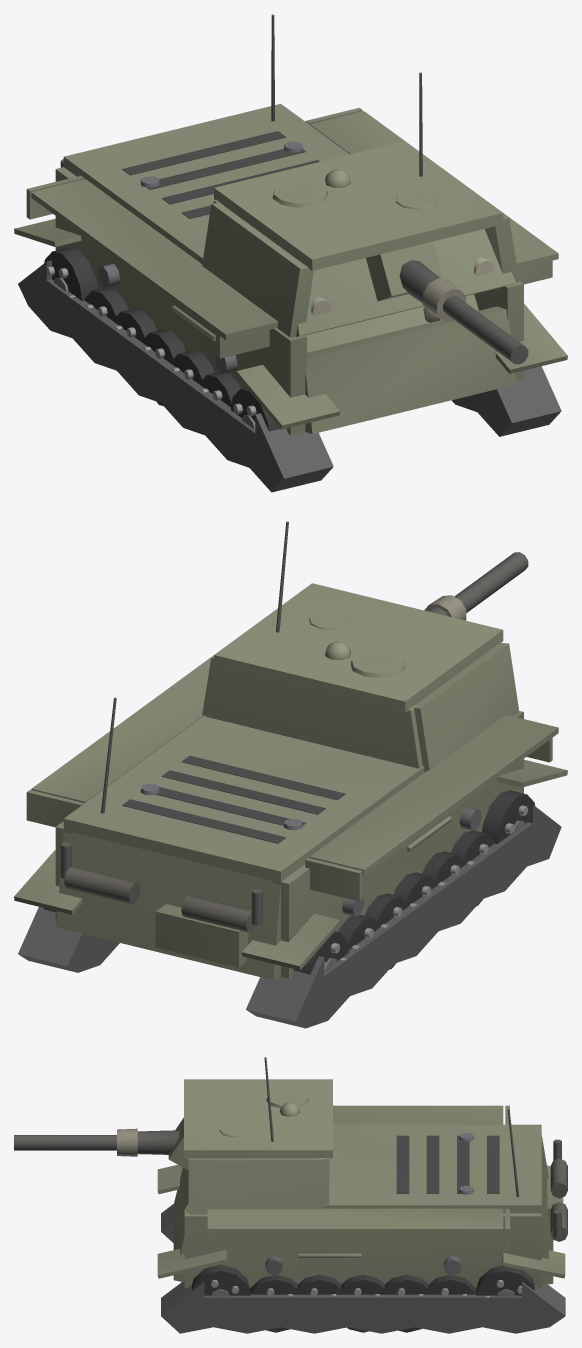
3 views of the same model, one above another, from view 1: azimuth 30°, elevation 25°; view 2: azimuth 150°, elevation 25°; view 3: azimuth 270°, elevation 25° (orthographic). The views are drawn at different scales.
Visible parts, largest first — view 1: hullSide, tracks, turretRoof, hullTop, lowerPlate, mantlet, turretSide, barrel, glacis, wheel6, wheel5, wheel2 (+4 smaller); view 2: hullTop, hullSide, tracks, turretRoof, hullRear, turretSide, barrel, wheel5, wheel6, wheel4, wheel2, wheel1 (+2 smaller); view 3: hullSide, tracks, hullTop, turretRoof, turretSide, barrel, hullRear, wheel12, wheel13, wheel11, wheel8, lowerPlate (+4 smaller).
Boxes of the visible parts, bbox=[...] form: hullSide: bbox=[26, 107, 558, 435]; tracks: bbox=[14, 218, 567, 492]; turretRoof: bbox=[214, 72, 503, 270]; hullTop: bbox=[63, 103, 349, 263]; lowerPlate: bbox=[305, 306, 516, 434]; mantlet: bbox=[296, 229, 515, 336]; turretSide: bbox=[202, 200, 519, 337]; barrel: bbox=[399, 260, 528, 364]; glacis: bbox=[305, 294, 478, 352]; wheel6: bbox=[44, 247, 97, 300]; wheel5: bbox=[230, 387, 280, 431]; wheel2: bbox=[142, 329, 185, 405]; hullTop: bbox=[63, 715, 424, 882]; hullSide: bbox=[26, 655, 558, 978]; tracks: bbox=[14, 759, 567, 1028]; turretRoof: bbox=[214, 521, 503, 712]; hullRear: bbox=[56, 697, 280, 980]; turretSide: bbox=[202, 643, 519, 772]; barrel: bbox=[424, 552, 528, 620]; wheel5: bbox=[482, 790, 534, 843]; wheel6: bbox=[293, 931, 348, 974]; wheel4: bbox=[451, 830, 494, 906]; wheel2: bbox=[393, 872, 437, 908]; wheel1: bbox=[365, 893, 407, 969]; hullSide: bbox=[184, 1105, 541, 1287]; tracks: bbox=[157, 1164, 565, 1333]; hullTop: bbox=[323, 1124, 541, 1213]; turretRoof: bbox=[184, 1057, 332, 1158]; turretSide: bbox=[188, 1158, 329, 1214]; barrel: bbox=[14, 1128, 179, 1156]; hullRear: bbox=[507, 1109, 567, 1285]; wheel12: bbox=[192, 1264, 250, 1296]; wheel13: bbox=[476, 1265, 534, 1297]; wheel11: bbox=[250, 1274, 300, 1332]; wheel8: bbox=[381, 1274, 430, 1332]; lowerPlate: bbox=[173, 1167, 184, 1282].
Bounding box in the file's own units: 3.68 × 3.5 × 6.98.
